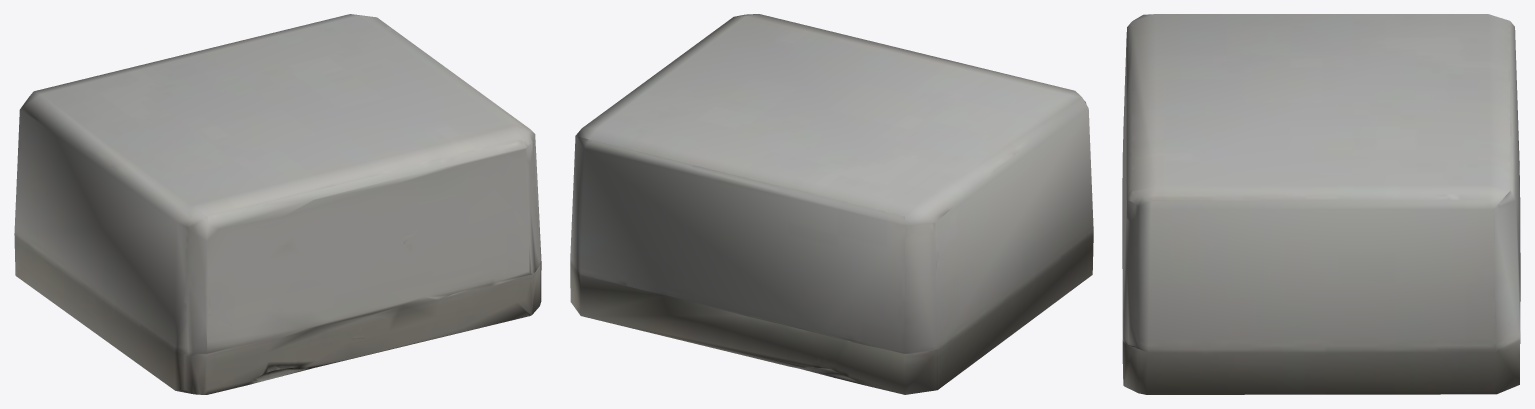
The model's file is prop_barrier.glb.
3 views of the same model, side by side, from view 1: azimuth 30°, elevation 25°; view 2: azimuth 150°, elevation 25°; view 3: azimuth 270°, elevation 25° (orthographic). The views are drawn at different scales.
Parts seen in each view (by area): view 1: node_0; view 2: node_0; view 3: node_0.
Boxes of the visible parts, x1,y1,x2,y2 form: node_0: [14, 14, 541, 394]; node_0: [570, 14, 1093, 394]; node_0: [1122, 14, 1520, 394].
Bounding box in the file's own units: 0.9061 × 0.4215 × 0.768.
Materials: 1 (1 with a texture image).
